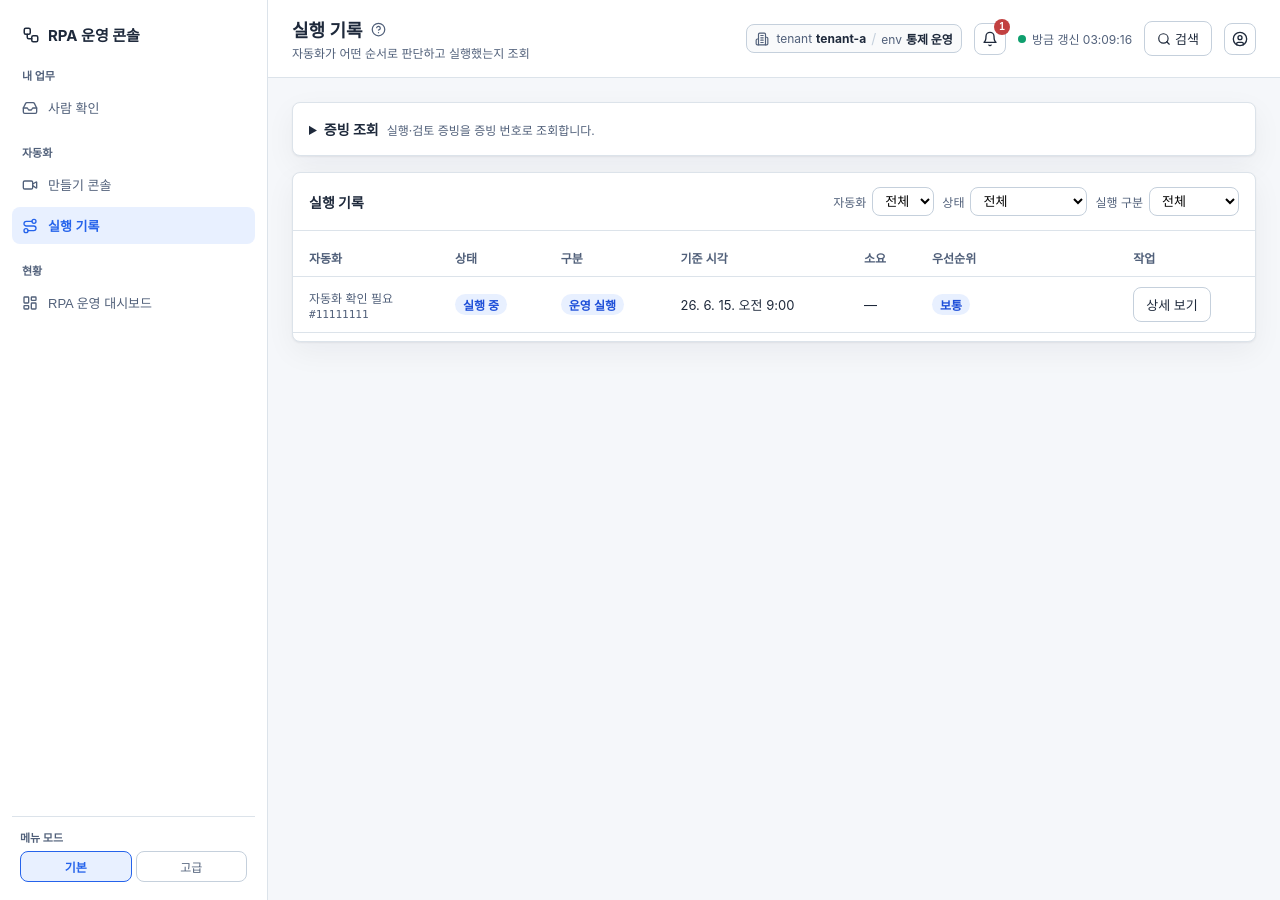
Test: 실행 상세 상태 패널 — 터미널 상태(F3) › cancelled → 단일 상태 패널 muted + '취소됨'(abort→cancelled 어휘)
The image size is (1280, 900).
Click the button with aria-label "실행 추적 상세 보기" at (1172,304), box [1133,287,1211,322]
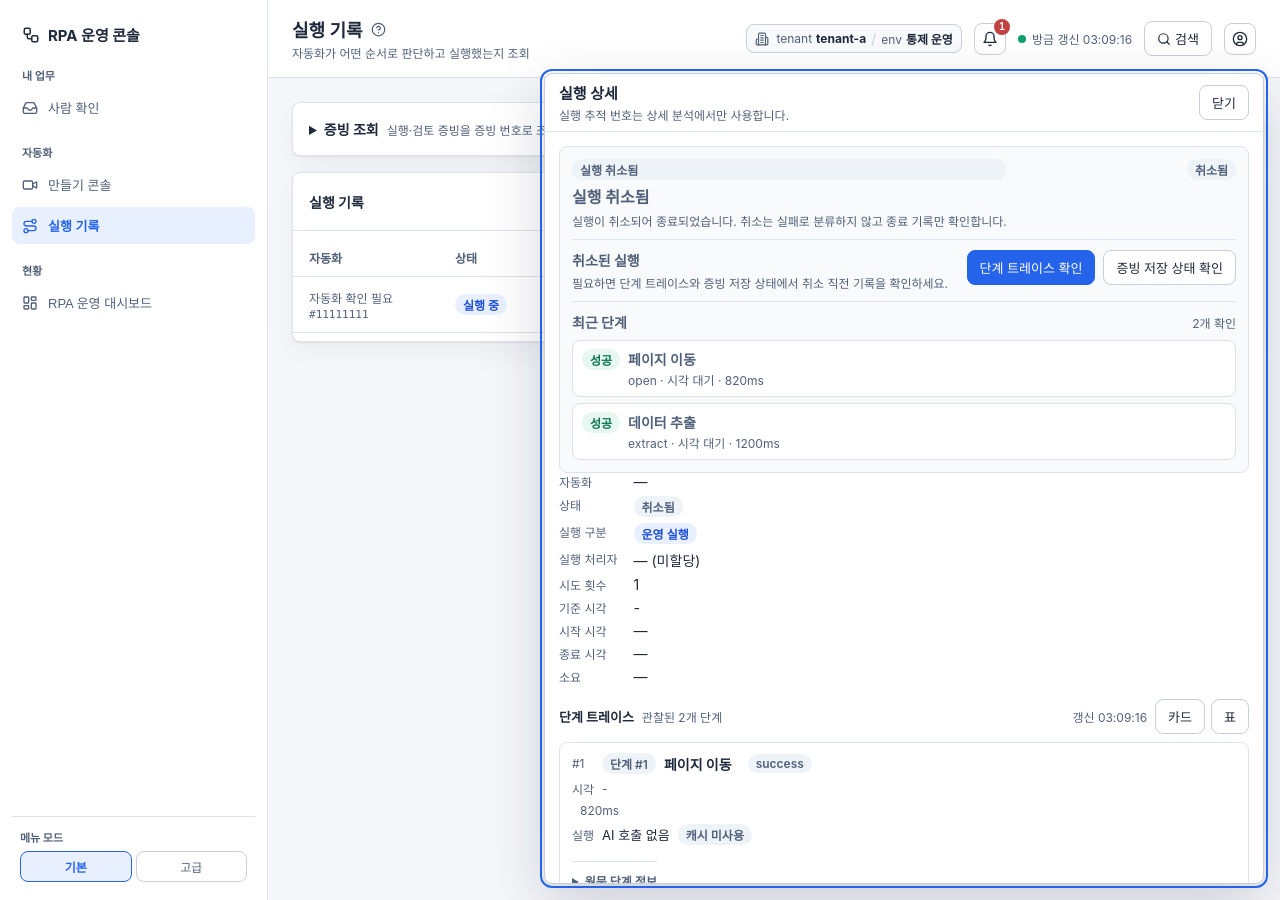
expect the element named "테스트 실행 상태" shows "취소됨": met, box [1195,163,1228,178]
expect the element named "테스트 실행 상태" shows "취소된 실행": met, box [572,252,640,269]
